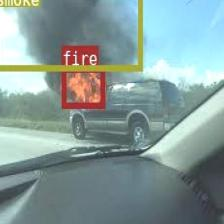fire: (61, 66, 104, 106)
smoke: (0, 0, 141, 70)
